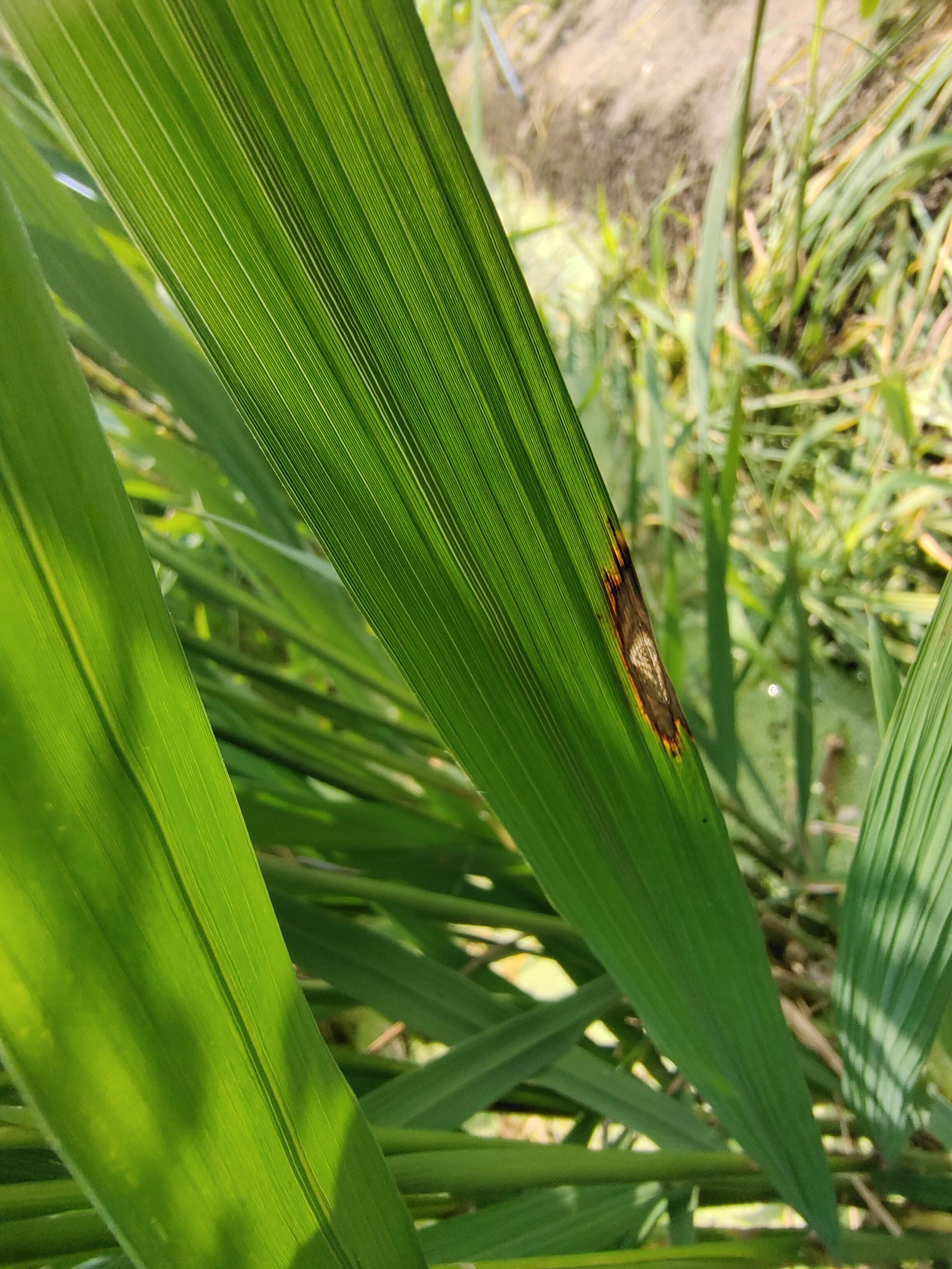LEAF: (0, 0, 840, 1242)
LEAF BLAST: (607, 533, 689, 756)
